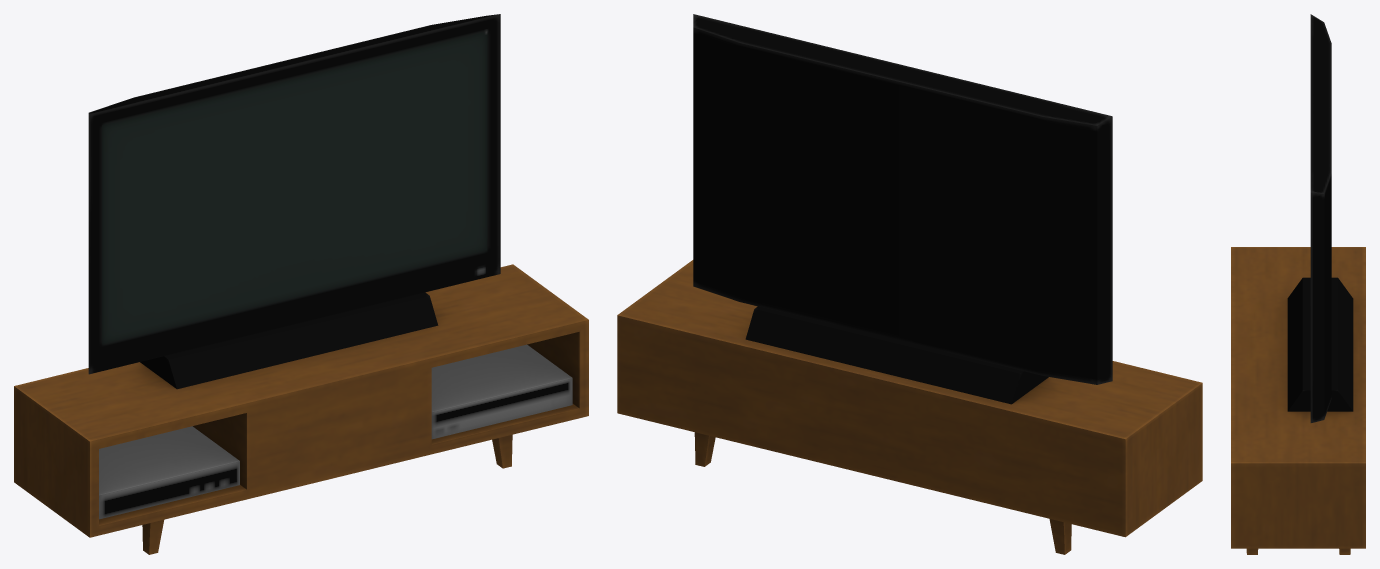
Rendered from sb_obj_ModernCity072_tv.fbx.
The picture shows the model from 3 angles, left to right: view 1: azimuth 30°, elevation 25°; view 2: azimuth 150°, elevation 25°; view 3: azimuth 270°, elevation 25°; orthographic projection. The views are drawn at different scales.
Visible parts, largest first — view 1: tv_monitor, sb_obj_ModernCity072_tv; view 2: tv_monitor, sb_obj_ModernCity072_tv; view 3: sb_obj_ModernCity072_tv, tv_monitor.
Boxes of the visible parts, x1,y1,x2,y2 form: tv_monitor: [88, 14, 500, 374]; sb_obj_ModernCity072_tv: [14, 264, 588, 554]; tv_monitor: [693, 14, 1112, 384]; sb_obj_ModernCity072_tv: [617, 260, 1202, 554]; sb_obj_ModernCity072_tv: [1231, 247, 1365, 554]; tv_monitor: [1310, 14, 1331, 422].
Size of the model in its own units: 1.22 by 0.9783 by 0.32.
